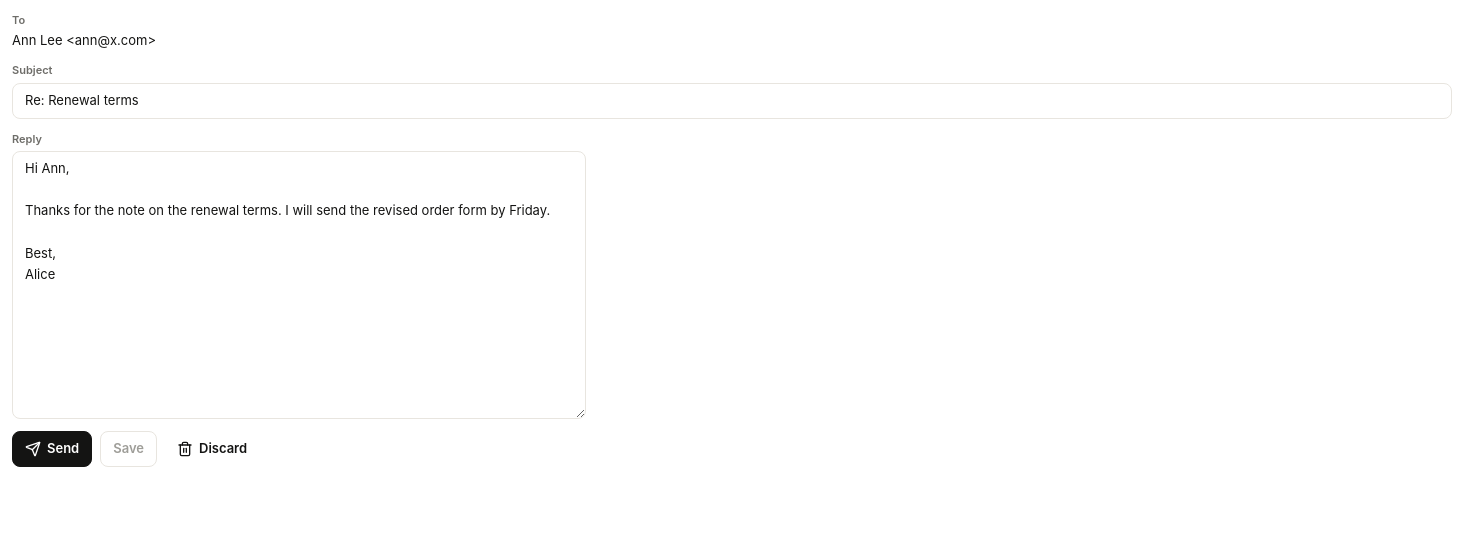
Test: DraftForm: an email draft (Decisions 2 to 6) › says a paused Gmail in the server words with the next step and a way to Connections
Click the button "Send" at x=52, y=448, box [12,430,92,466]
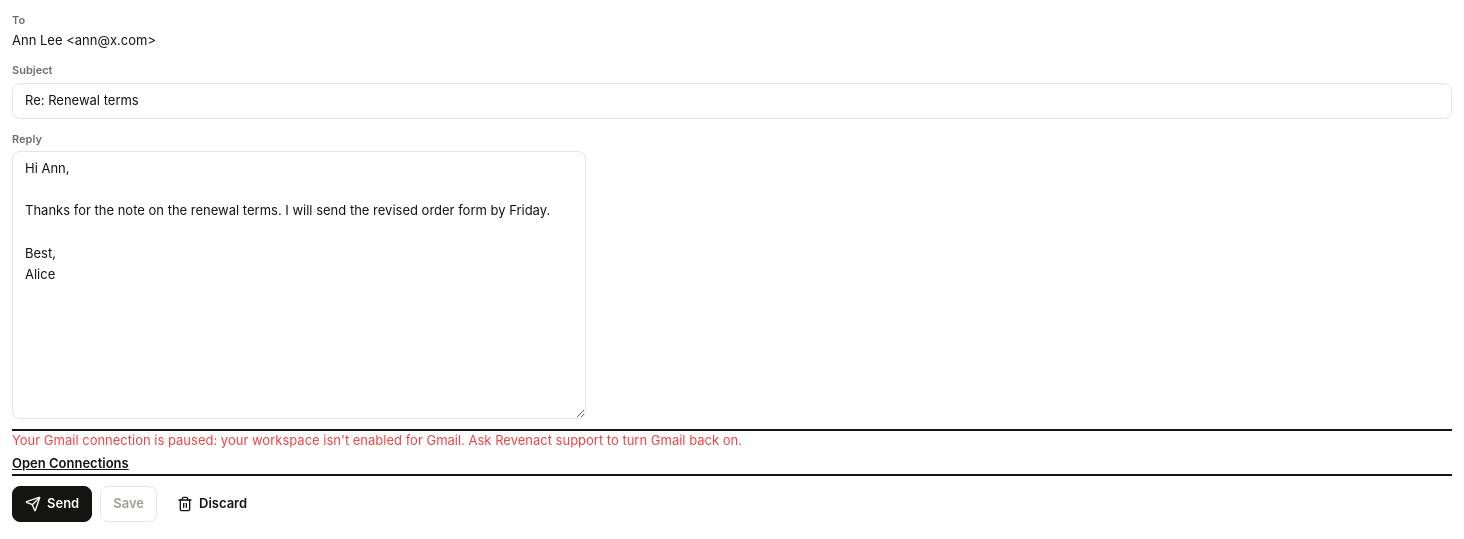
Check: the message shows "Your Gmail connection is paused: your workspace isn't enabled for Gmail. Ask Revenact support to turn Gmail back on.", box [12,432,742,448]
